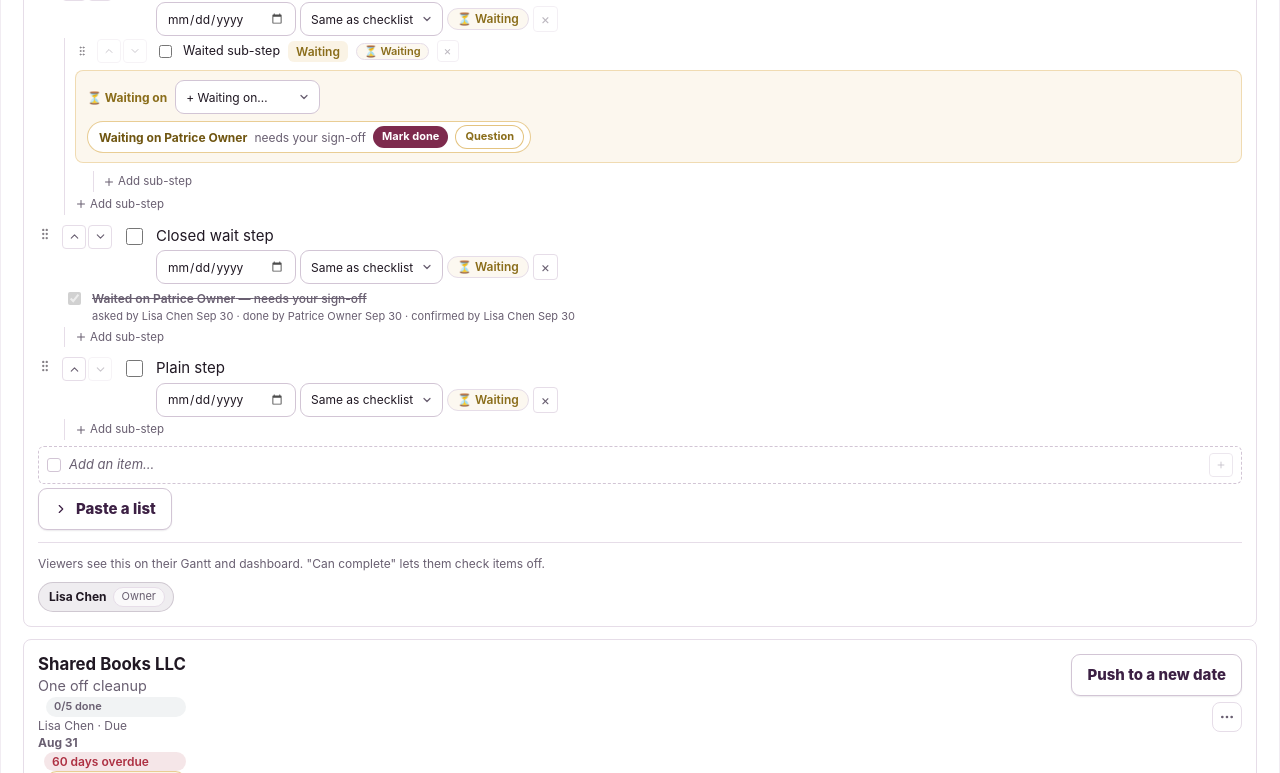
Test: the server refuses anyway (a wait added from another tab) › "This checklist only" keeps the prompt open and shows the server's sentence inline, with no alert
(page scrolled)
Click the button named "Delete item" at (545, 400), box [533, 387, 558, 413]
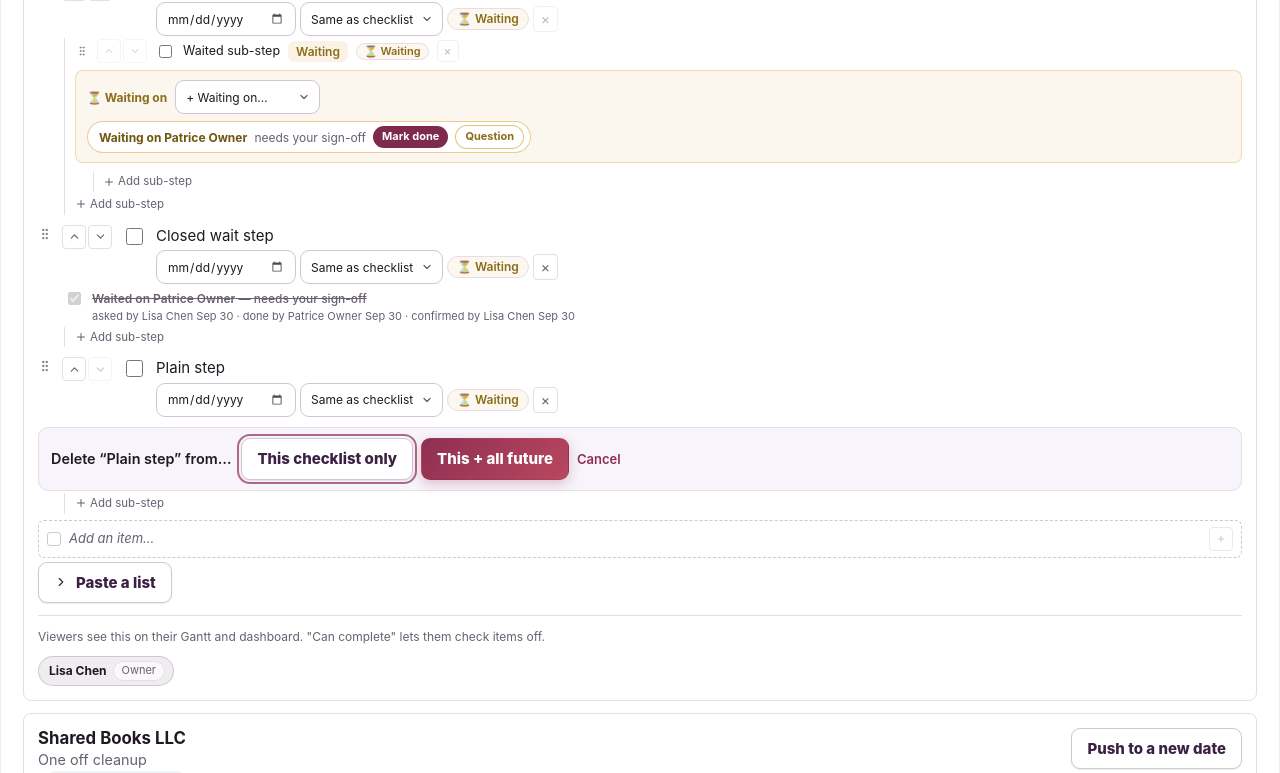
Click the button "This checklist only" at (327, 459), box [241, 438, 413, 480]
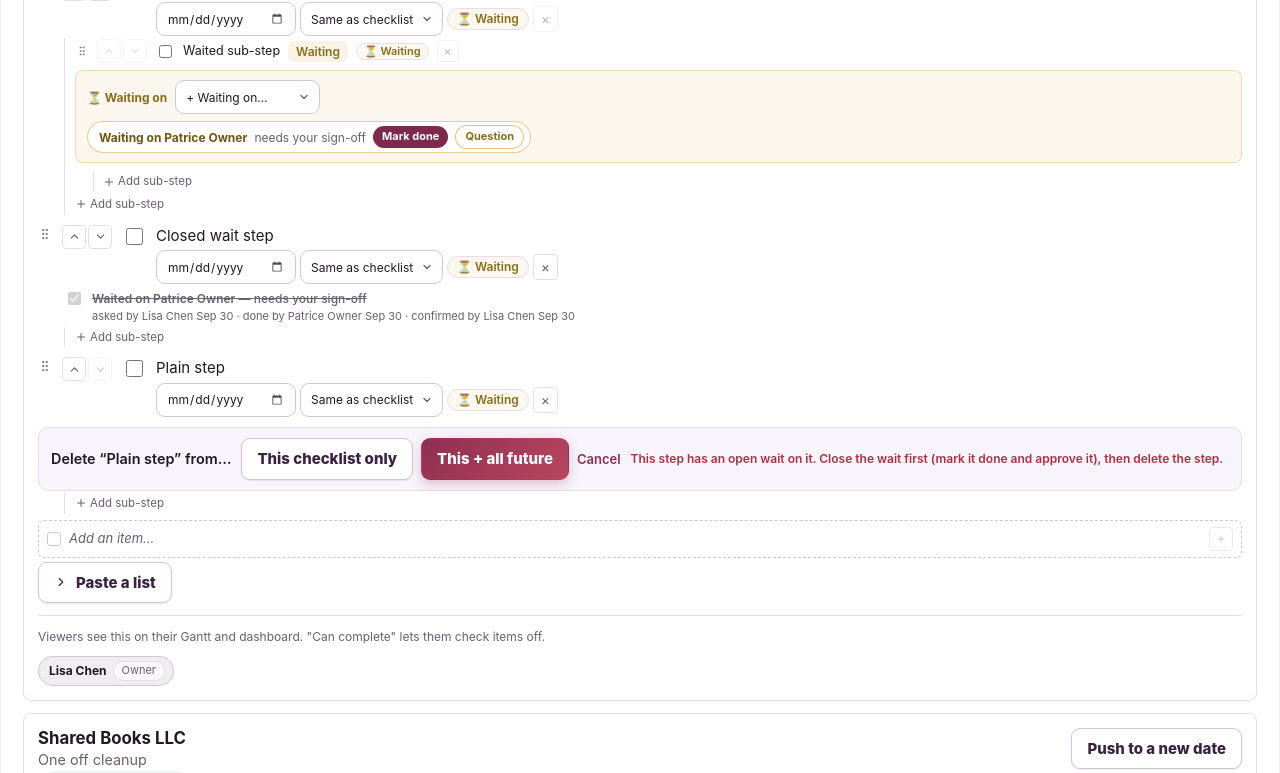
Expected: the element named "Where to delete this step" is shown, [38, 427, 1242, 491]
Expected: the message shows "This step has an open wait on it. Close the wait first (mark it done and approve it), then delete the step.", [631, 451, 1223, 466]
